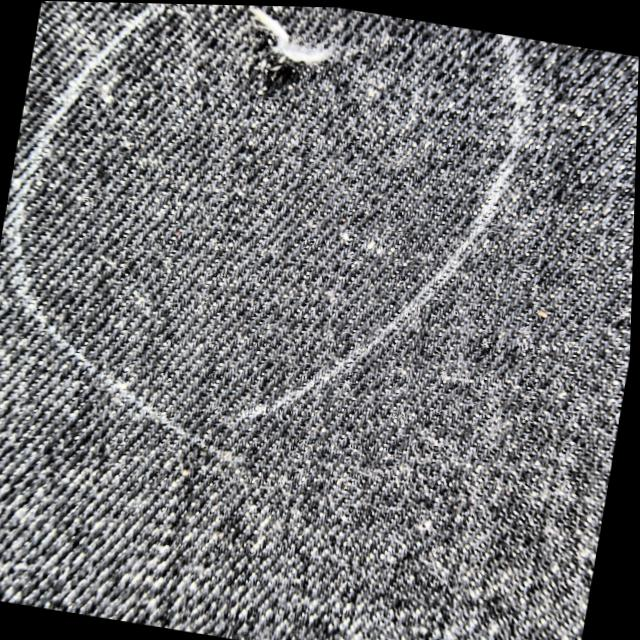Hole: (225, 4, 342, 90)
